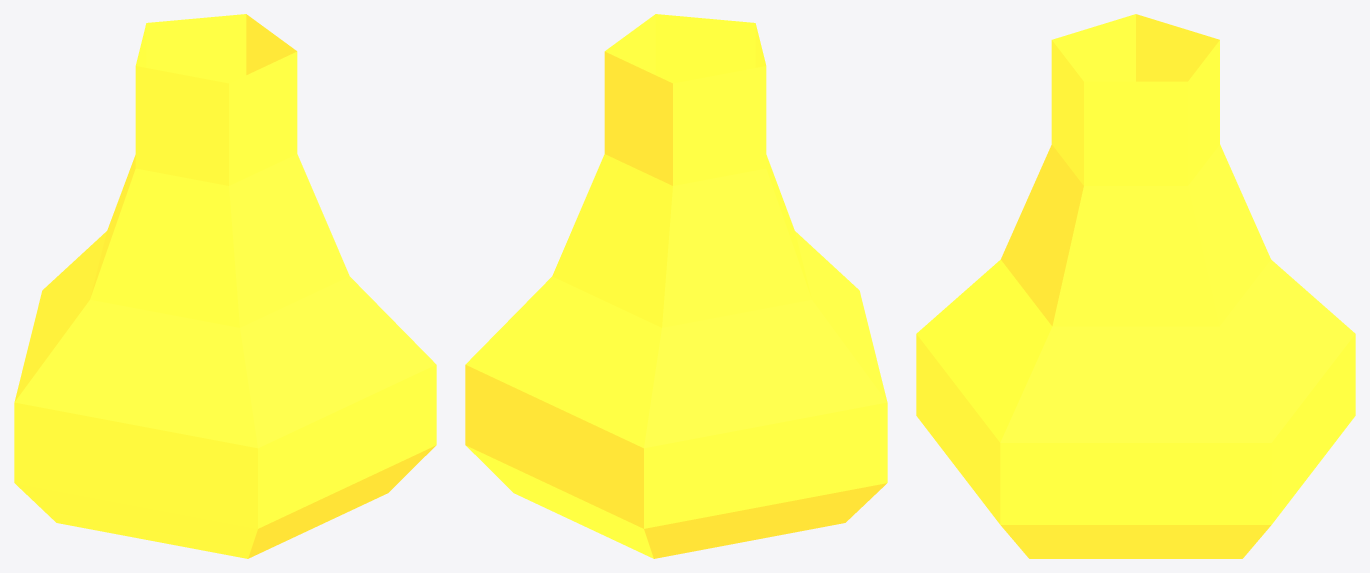
Rendered from Light_keroseneLamp01.fbx.
3 views of the same model, side by side, from view 1: azimuth 30°, elevation 25°; view 2: azimuth 150°, elevation 25°; view 3: azimuth 270°, elevation 25° (orthographic).
Visible parts, largest first — view 1: Light_keroseneLamp01; view 2: Light_keroseneLamp01; view 3: Light_keroseneLamp01.
Part boxes in pixels (left/top/right/bottom): Light_keroseneLamp01: left=14, top=14, right=436, bottom=558; Light_keroseneLamp01: left=465, top=14, right=887, bottom=558; Light_keroseneLamp01: left=916, top=14, right=1355, bottom=558.
Bounding box in the file's own units: 49.36 × 58.09 × 51.9.
